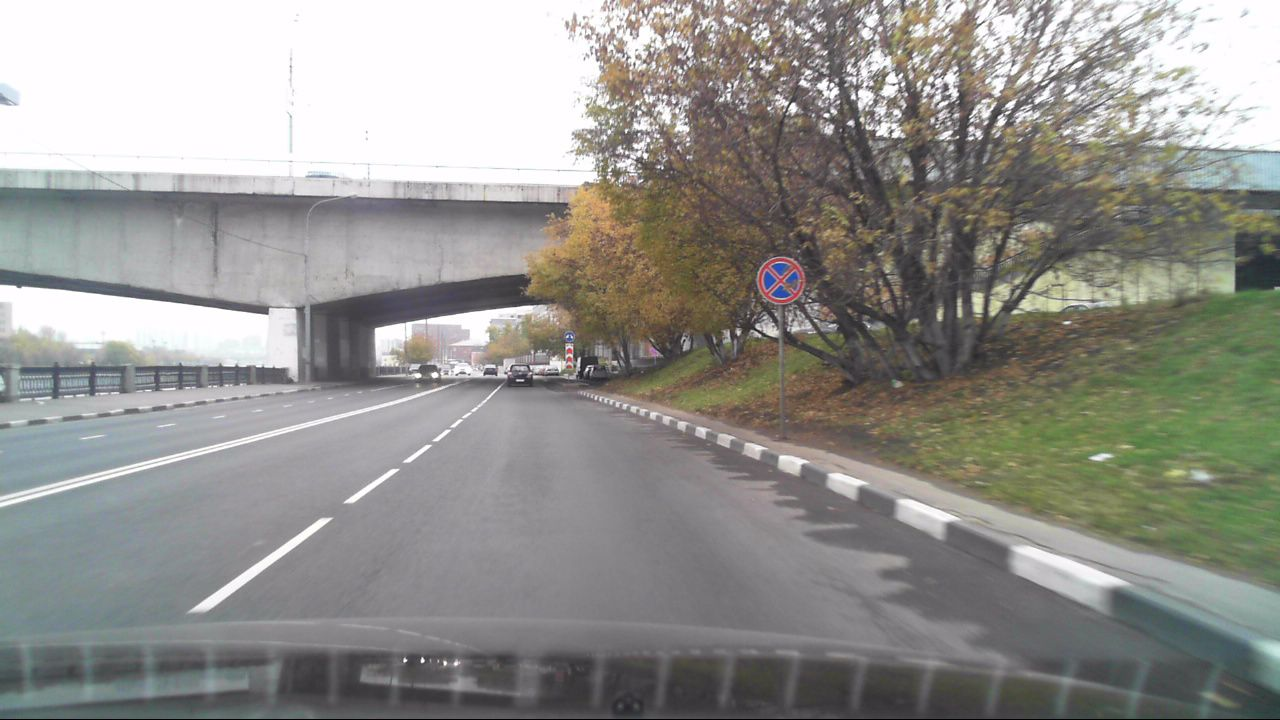No Parking: (756, 255, 805, 305)
